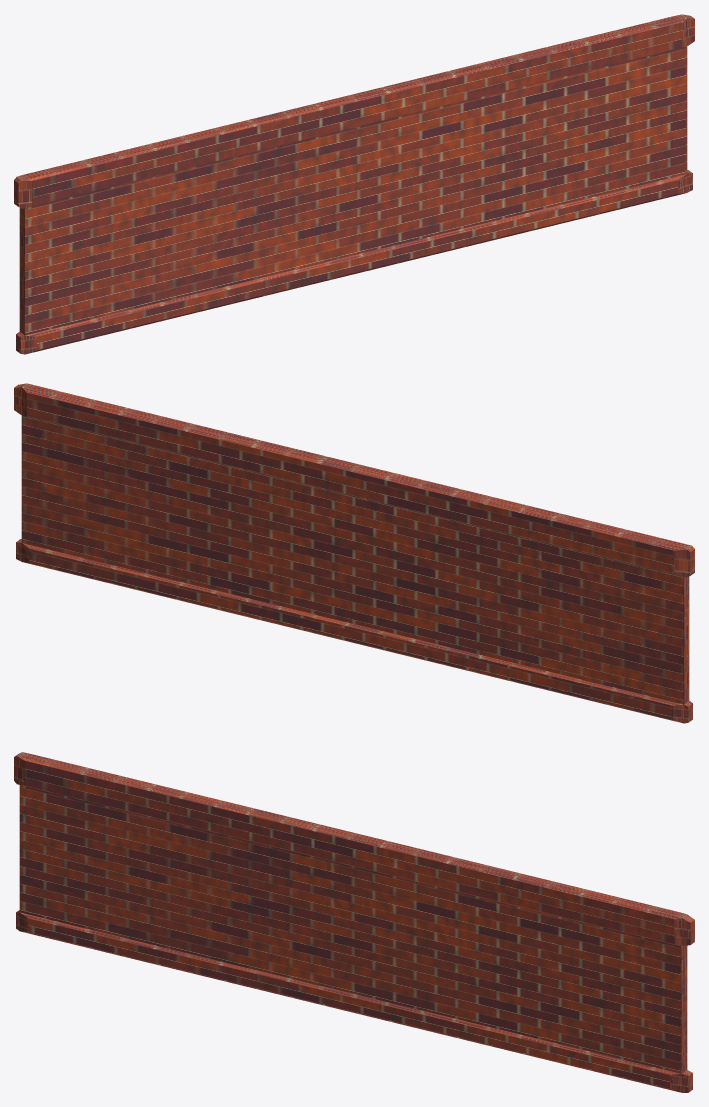
Rendered from wall_2.gltf.
3 renders of one model, top to bottom at view 1: azimuth 30°, elevation 25°; view 2: azimuth 150°, elevation 25°; view 3: azimuth 330°, elevation 25°, orthographic.
Parts seen in each view (by area): view 1: Cube; view 2: Cube; view 3: Cube.
Part boxes in pixels (box(x1,y1,x2,y2)): Cube: box(14, 14, 694, 354); Cube: box(14, 383, 694, 723); Cube: box(14, 752, 694, 1092).
Bounding box in the file's own units: 44.38 × 10.95 × 1.02.
Materials: 1 (1 with a texture image).
